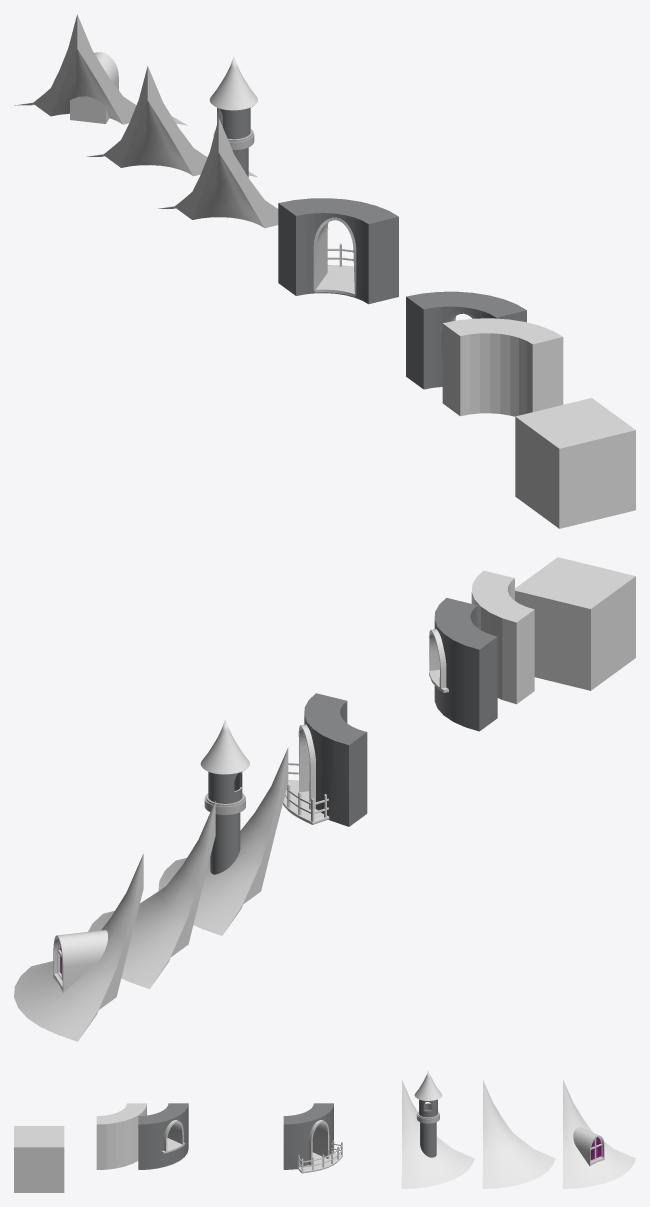
File: Towers.fbx
The picture shows the model from 3 angles, top to bottom: view 1: azimuth 30°, elevation 25°; view 2: azimuth 150°, elevation 25°; view 3: azimuth 270°, elevation 25°; orthographic projection. The views are drawn at different scales.
Parts seen in each view (by area): view 1: Cube Reference, Base, Balcony, RoofTower, RoofWindow, Window, RoofBase; view 2: Cube Reference, RoofTower, RoofWindow, Balcony, Window, RoofBase, Base; view 3: RoofTower, RoofWindow, RoofBase, Cube Reference, Balcony, Window, Base.
Boxes of the visible parts, x1=… form: Cube Reference: x1=515, y1=398, x2=635, y2=528; Base: x1=442, y1=318, x2=563, y2=416; Balcony: x1=278, y1=198, x2=398, y2=304; RoofTower: x1=158, y1=56, x2=329, y2=229; RoofWindow: x1=14, y1=14, x2=187, y2=125; Window: x1=406, y1=291, x2=526, y2=389; RoofBase: x1=86, y1=66, x2=258, y2=177; Cube Reference: x1=515, y1=557, x2=635, y2=690; RoofTower: x1=158, y1=719, x2=288, y2=935; RoofWindow: x1=14, y1=853, x2=143, y2=1041; Balcony: x1=283, y1=693, x2=367, y2=826; Window: x1=429, y1=598, x2=497, y2=731; RoofBase: x1=88, y1=801, x2=215, y2=988; Base: x1=471, y1=570, x2=534, y2=704; RoofTower: x1=401, y1=1070, x2=474, y2=1188; RoofWindow: x1=562, y1=1080, x2=635, y2=1188; RoofBase: x1=482, y1=1080, x2=555, y2=1188; Cube Reference: x1=14, y1=1126, x2=64, y2=1192; Balcony: x1=283, y1=1103, x2=342, y2=1173; Window: x1=138, y1=1103, x2=188, y2=1169; Base: x1=96, y1=1103, x2=146, y2=1169.
Size of the model in its own units: 290 by 493 by 2472.
